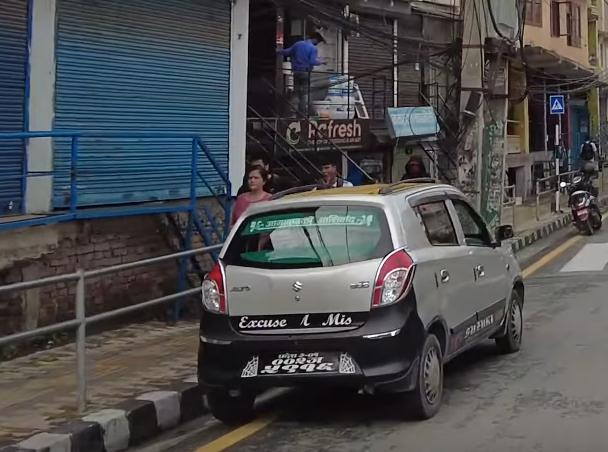scooter: (556, 159, 605, 235)
taxi: (189, 166, 537, 429)
